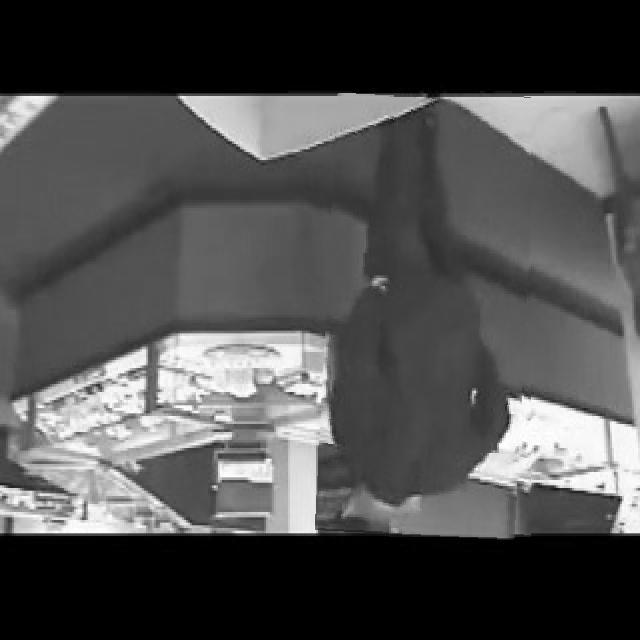Normal: (321, 95, 531, 537)
